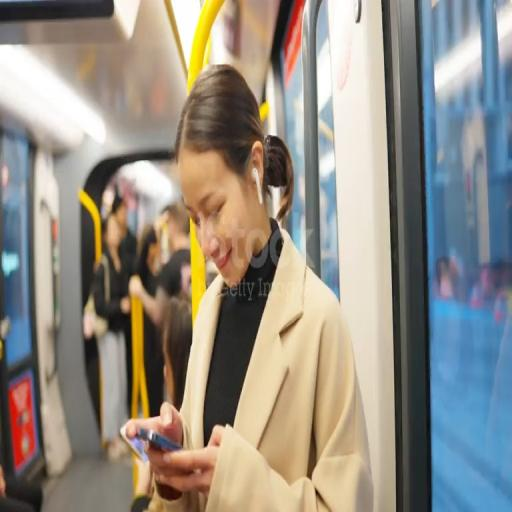earphone: (251, 165, 268, 207)
